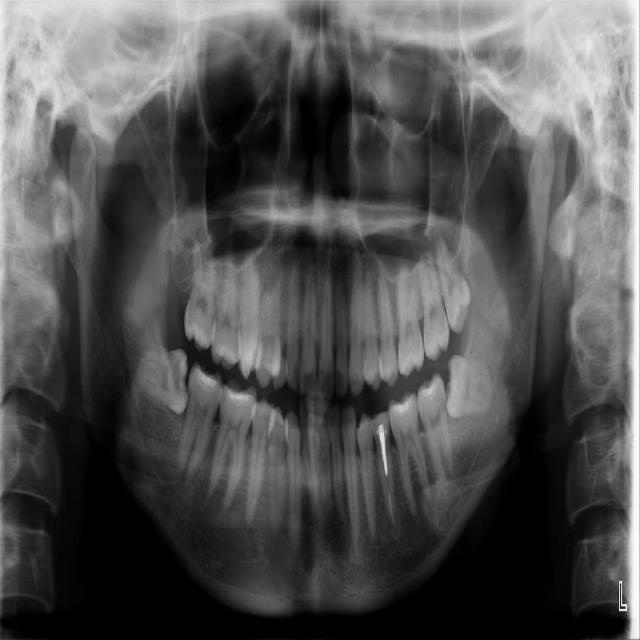52: (209, 376, 264, 437), (177, 361, 233, 417), (387, 390, 420, 443), (416, 373, 446, 426), (369, 409, 392, 451), (172, 361, 188, 394)
73: (618, 592, 624, 602)
BioHorizons Implant: (417, 231, 452, 363)
BioLife Implant: (431, 220, 478, 335)
Biomet 3i Implant: (441, 353, 496, 421)
Blue Sky Bio Implant: (413, 373, 457, 490)
Caries: (183, 233, 220, 352)
Implant: (172, 363, 226, 488)
Keystone Dental Implant: (134, 349, 190, 415)
